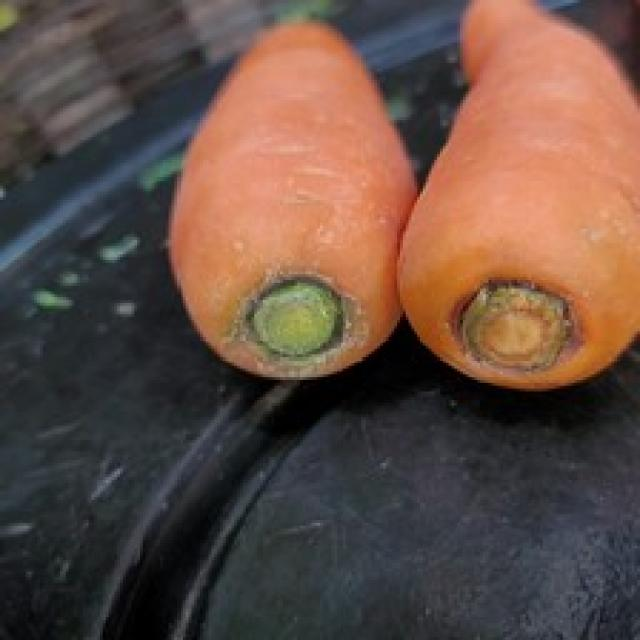Fresh_Carrot: (458, 14, 640, 249), (200, 42, 384, 242)
